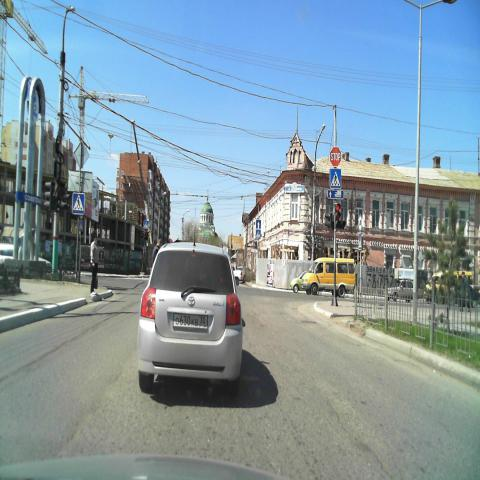6_15_1: (327, 189, 344, 199)
